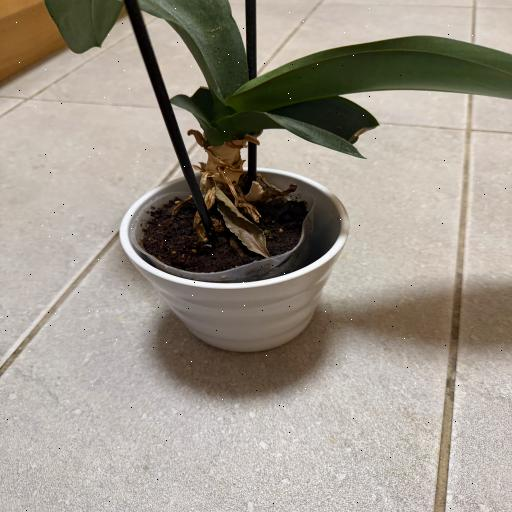Plant Pot: (121, 164, 357, 353)
